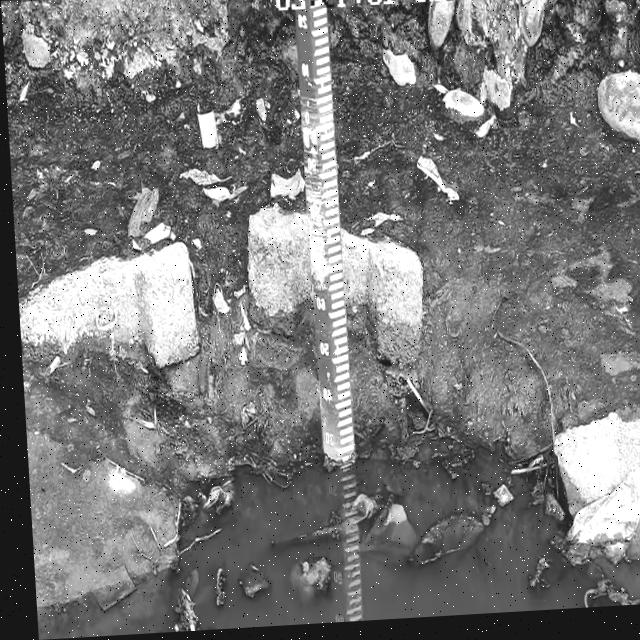water-meter: (286, 0, 366, 458)
